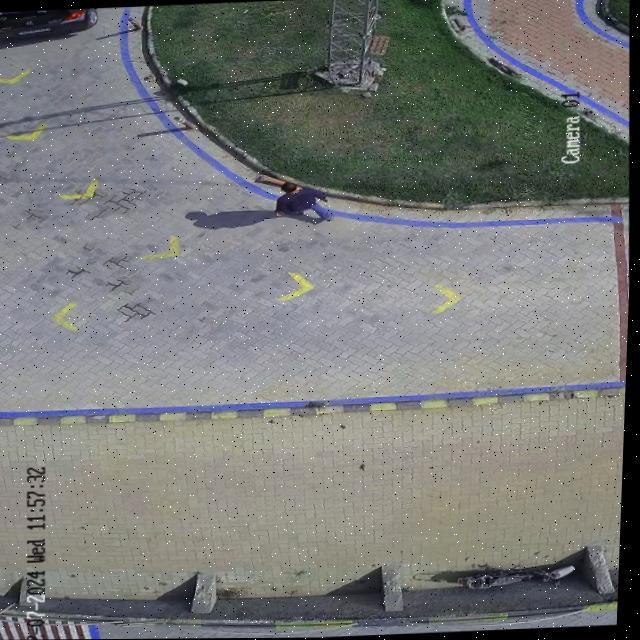car: (0, 7, 100, 36)
